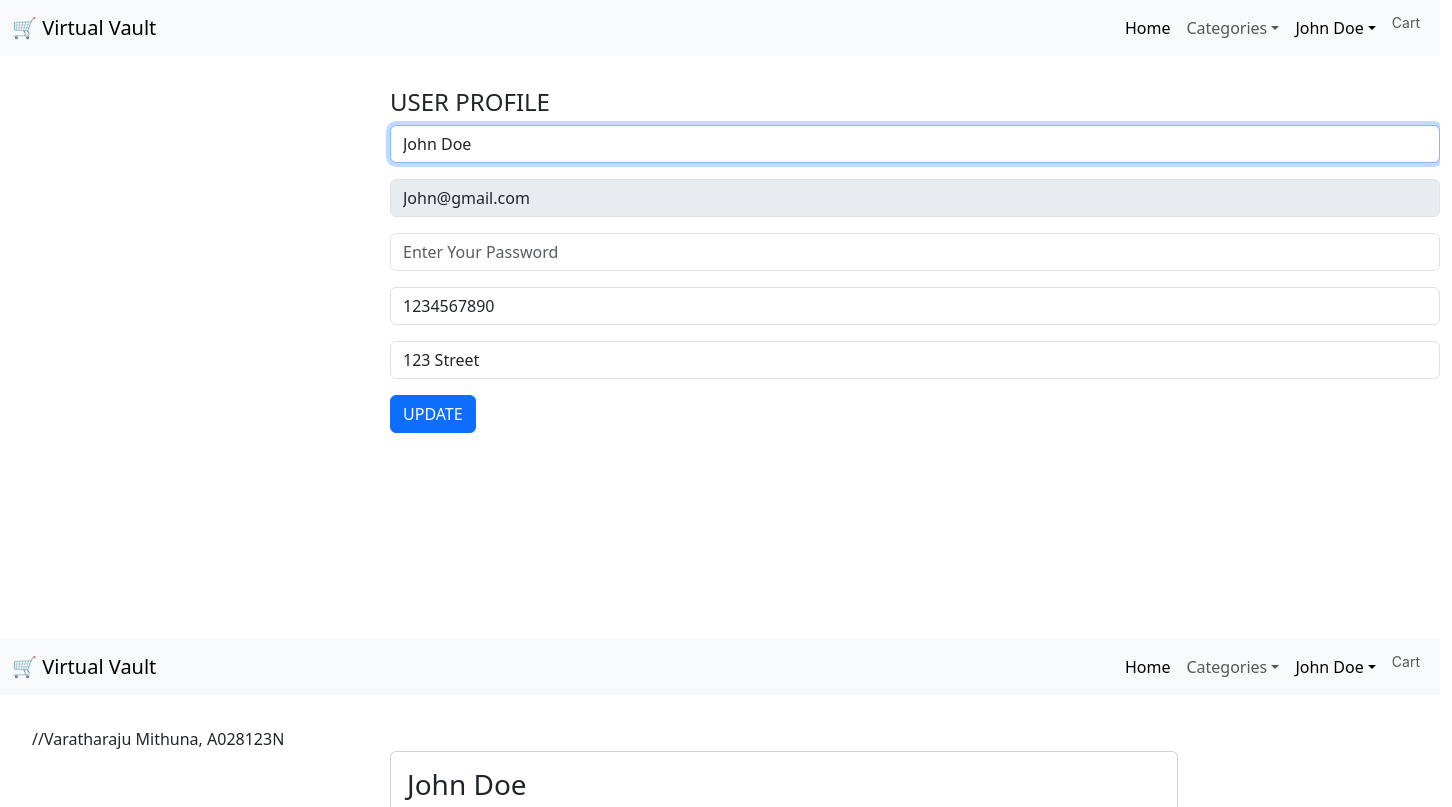
Test: Profile to Dashboard integration › Dashboard reflects partial update (address only)
Expected: the 1st field showing "John Doe" is shown, [390,125,1440,163]
Replace the text in the 4th field with placeholder "Enter Your Address" with "New Street": (915, 360) [390,341,1440,379]
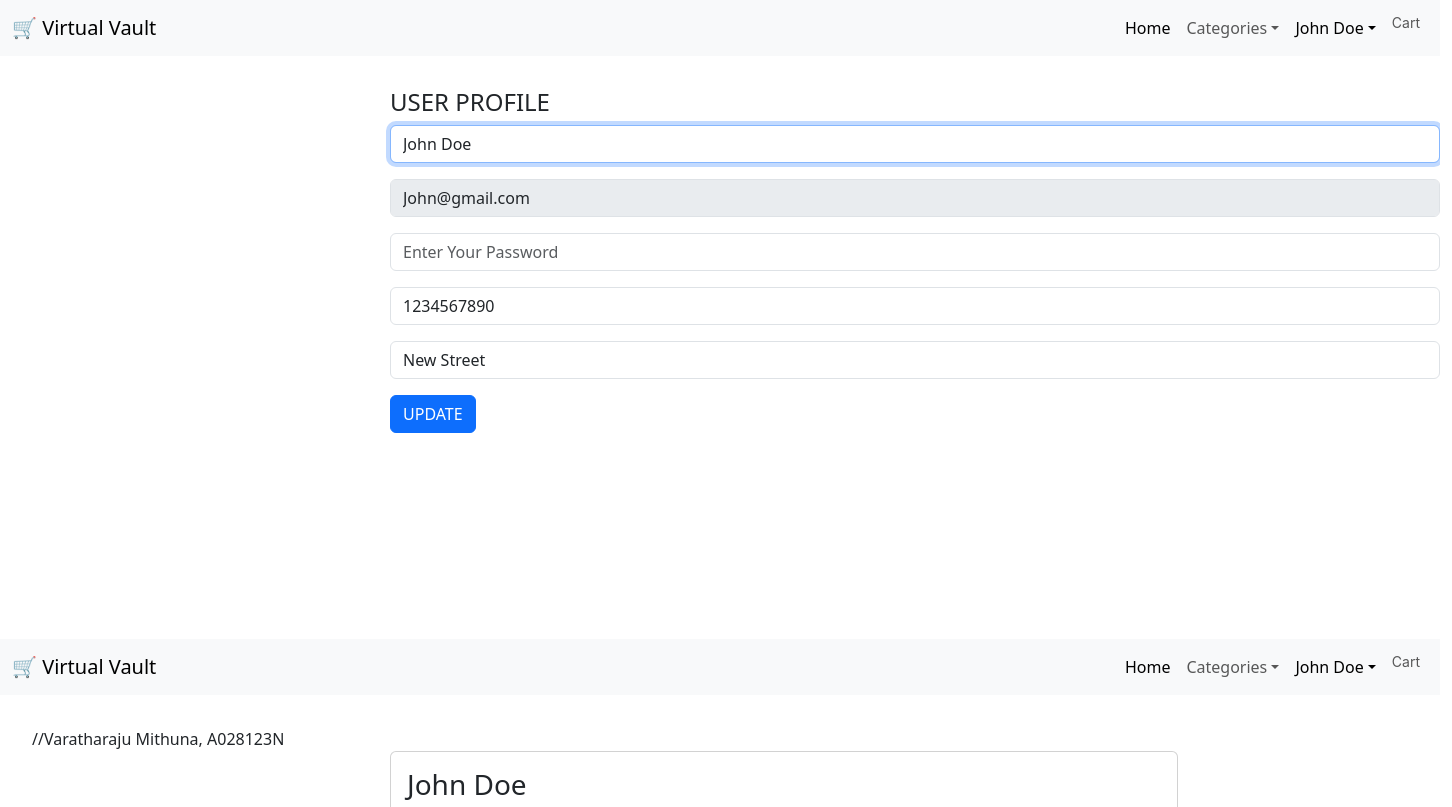
Click the button "UPDATE": (433, 414) [390,395,476,433]
(page scrolled)
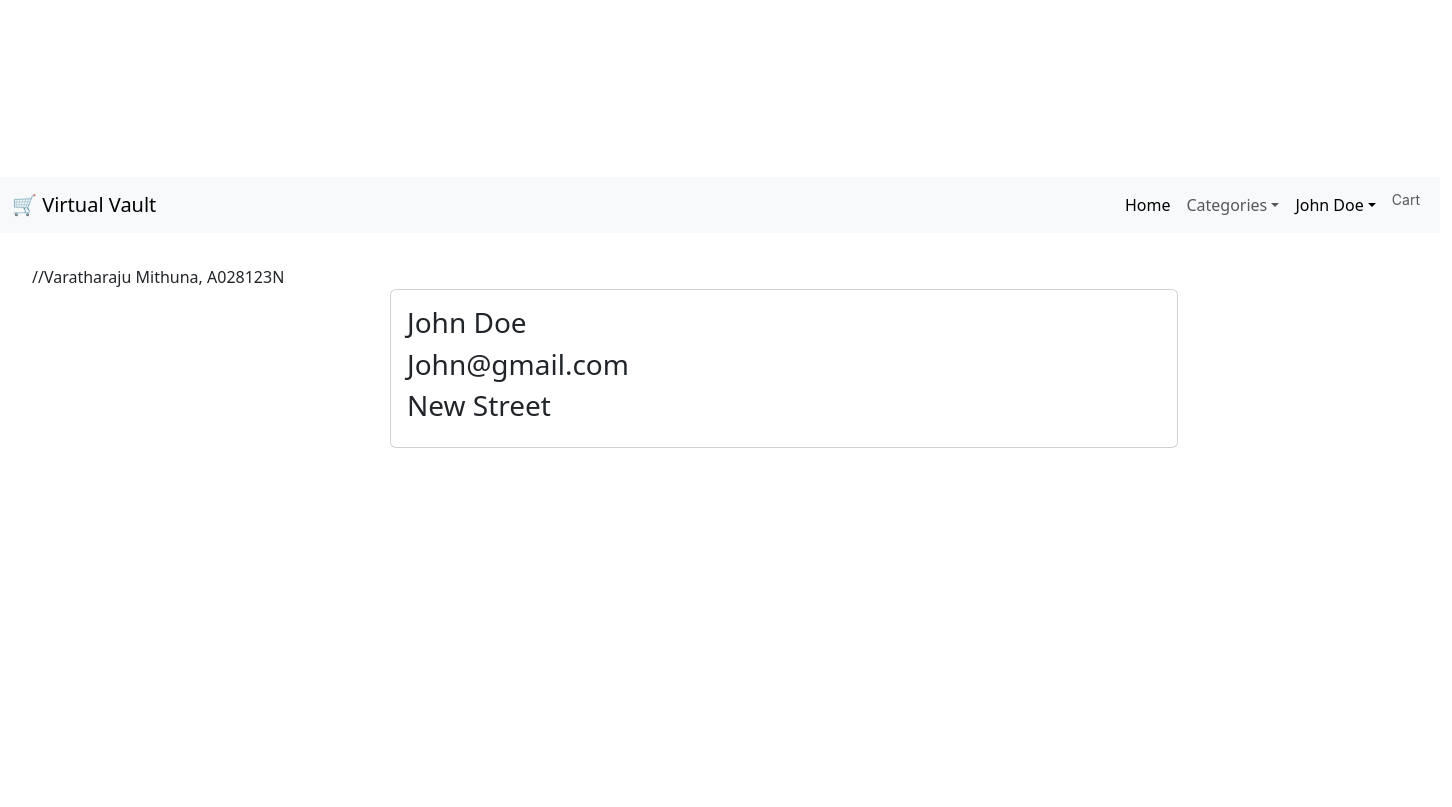
Expected: the heading "John Doe" is shown, [407,303,527,341]
Result: the heading "New Street" is shown at [407,386,551,424]
